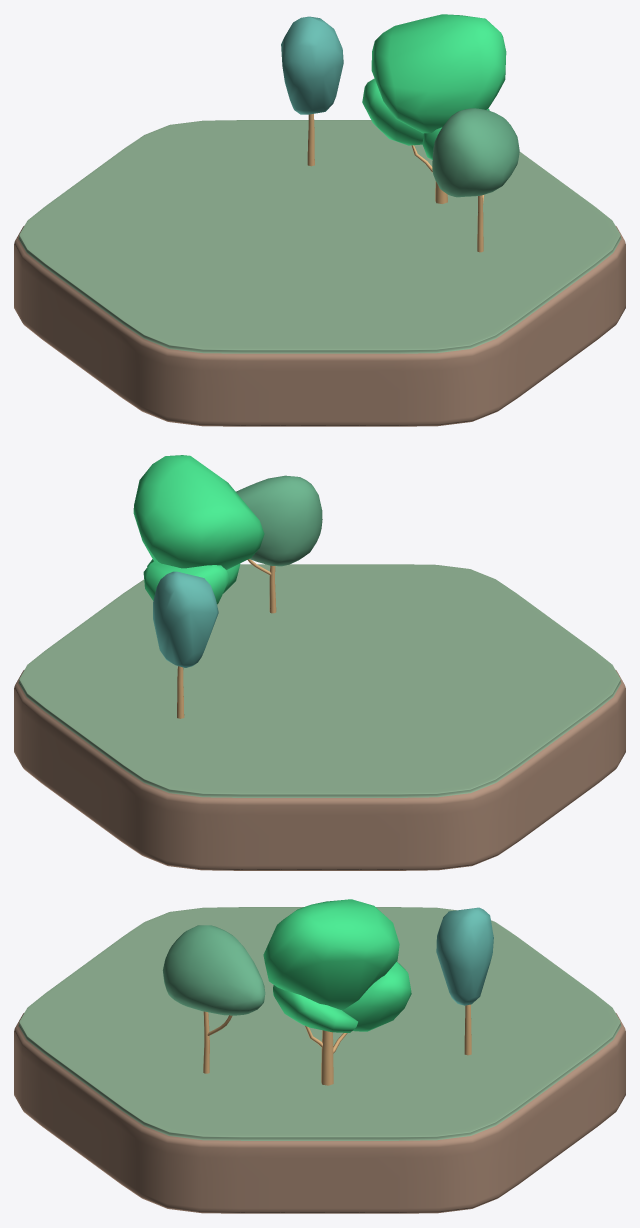
File: tile2.glb
3 renders of one model, top to bottom at view 1: azimuth 30°, elevation 25°; view 2: azimuth 150°, elevation 25°; view 3: azimuth 270°, elevation 25°, orthographic.
Visible parts, largest first — view 1: Tile, GreenTree4.003, GreenTree1.002, RedTree3.002; view 2: Tile, GreenTree4.003, GreenTree1.002, RedTree3.002; view 3: Tile, GreenTree4.003, GreenTree1.002, RedTree3.002.
Part boxes in pixels (x1,y1,x2,y2): Tile: (14,120,625,426); GreenTree4.003: (362,14,506,203); GreenTree1.002: (432,108,519,252); RedTree3.002: (281,16,343,166); Tile: (14,564,625,870); GreenTree4.003: (133,455,264,604); GreenTree1.002: (236,475,322,613); RedTree3.002: (153,571,218,718); Tile: (14,907,625,1213); GreenTree4.003: (263,899,411,1085); GreenTree1.002: (162,925,265,1073); RedTree3.002: (436,907,493,1055).
Size of the model in its own units: 27.55 by 14.31 by 30.48.
